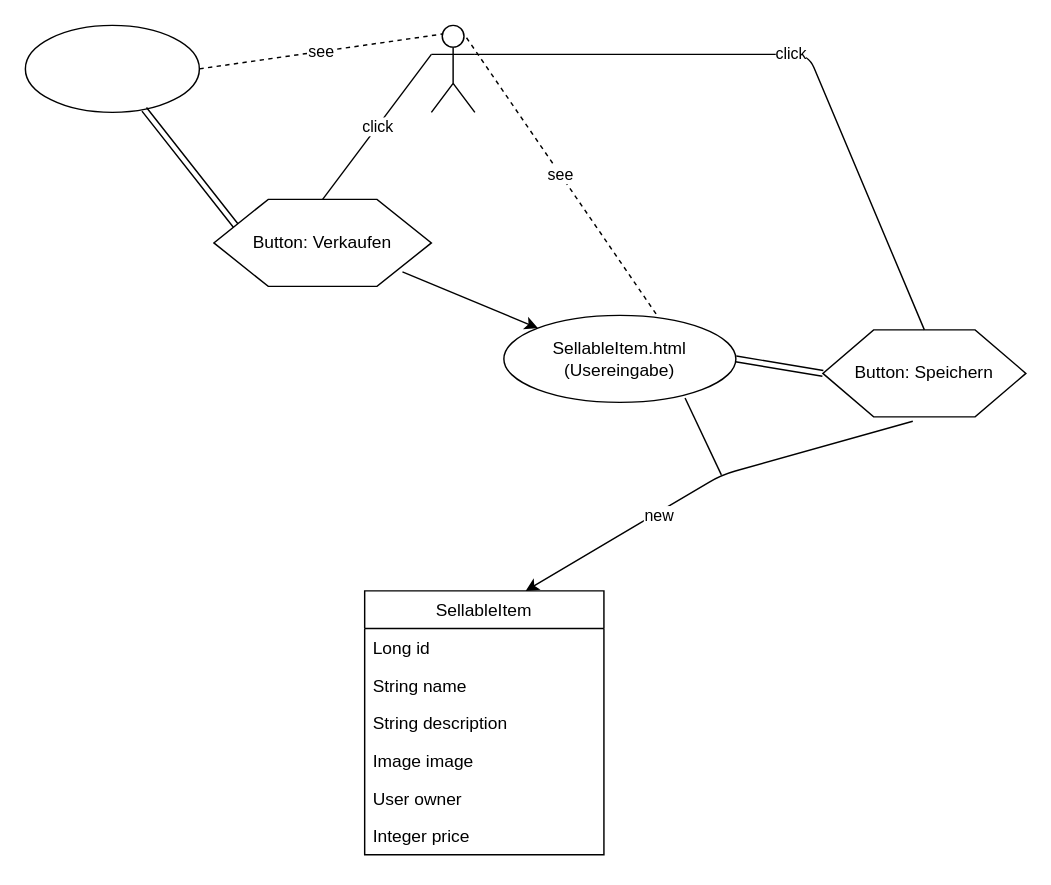
Some shapes in this 1051 by 885 pixel diagram are drawn without their labels. The shapes that lost their labels are listed below. From the top down, each one's box as (x1, y1, x2, y2) in pixels, then its label:
(24, 24, 199, 112): index.html
(430, 24, 475, 112): Actor
